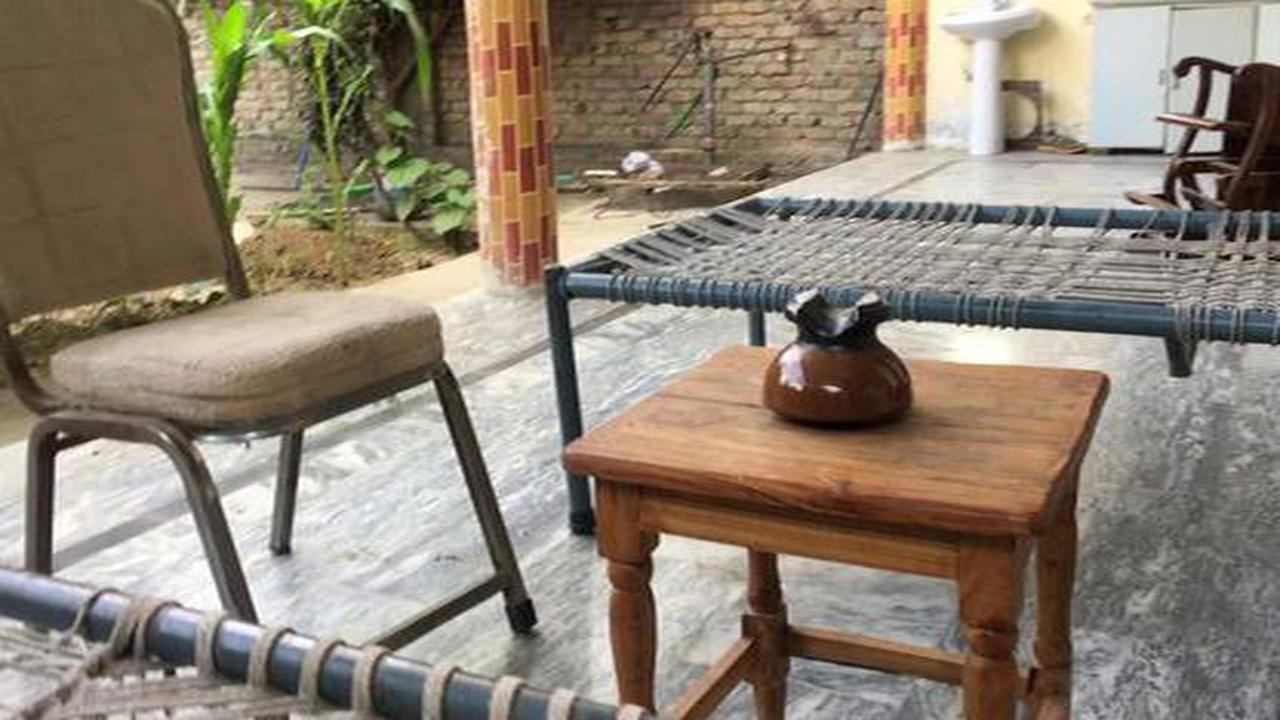insulator_pin: (739, 274, 939, 442)
